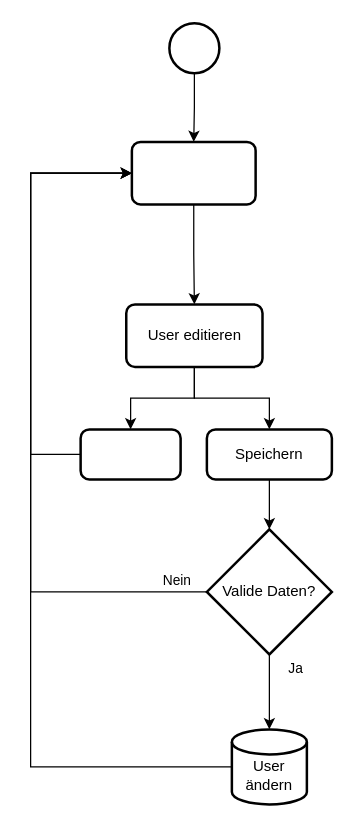
Image size: 355x826. Some labels were removed from this diagram. Here are the shapes that lost their labels. From the top down, the box of each, then its label:
(130, 140, 256, 205): User Daten anzeigen
(79, 428, 181, 480): Abbrechen
